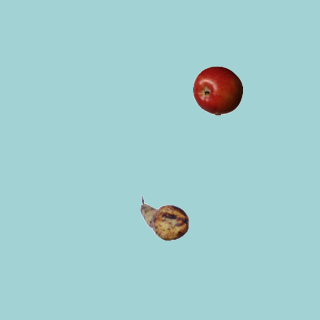Apple Braeburn: (192, 65, 242, 115)
Pear Abate: (139, 193, 189, 243)
